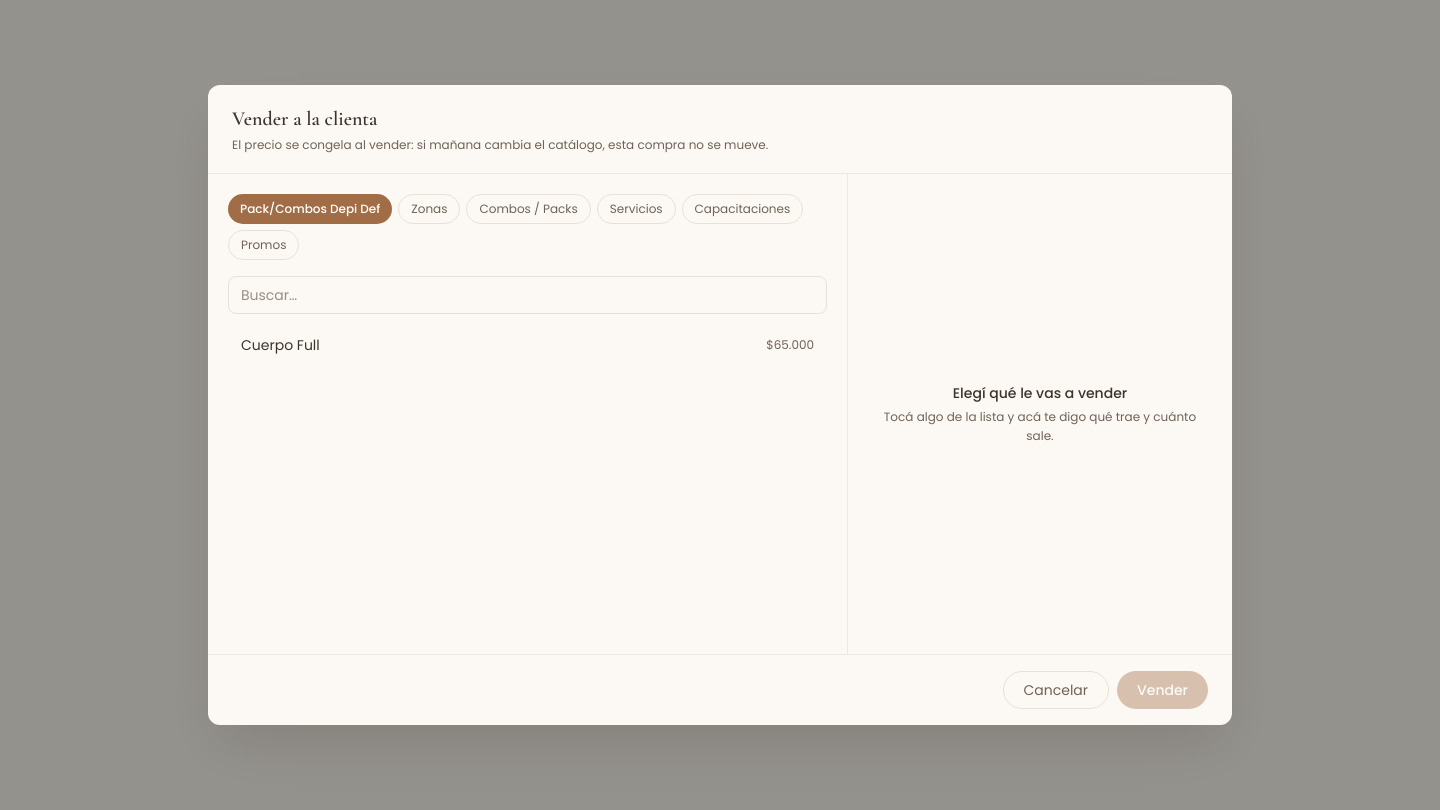
VenderModal — saldo a favor › al usarlo, muestra cuánto queda por cobrar
Click the button "Cuerpo Full $65.000". click: (280, 345)
box: [228,326,827,364]
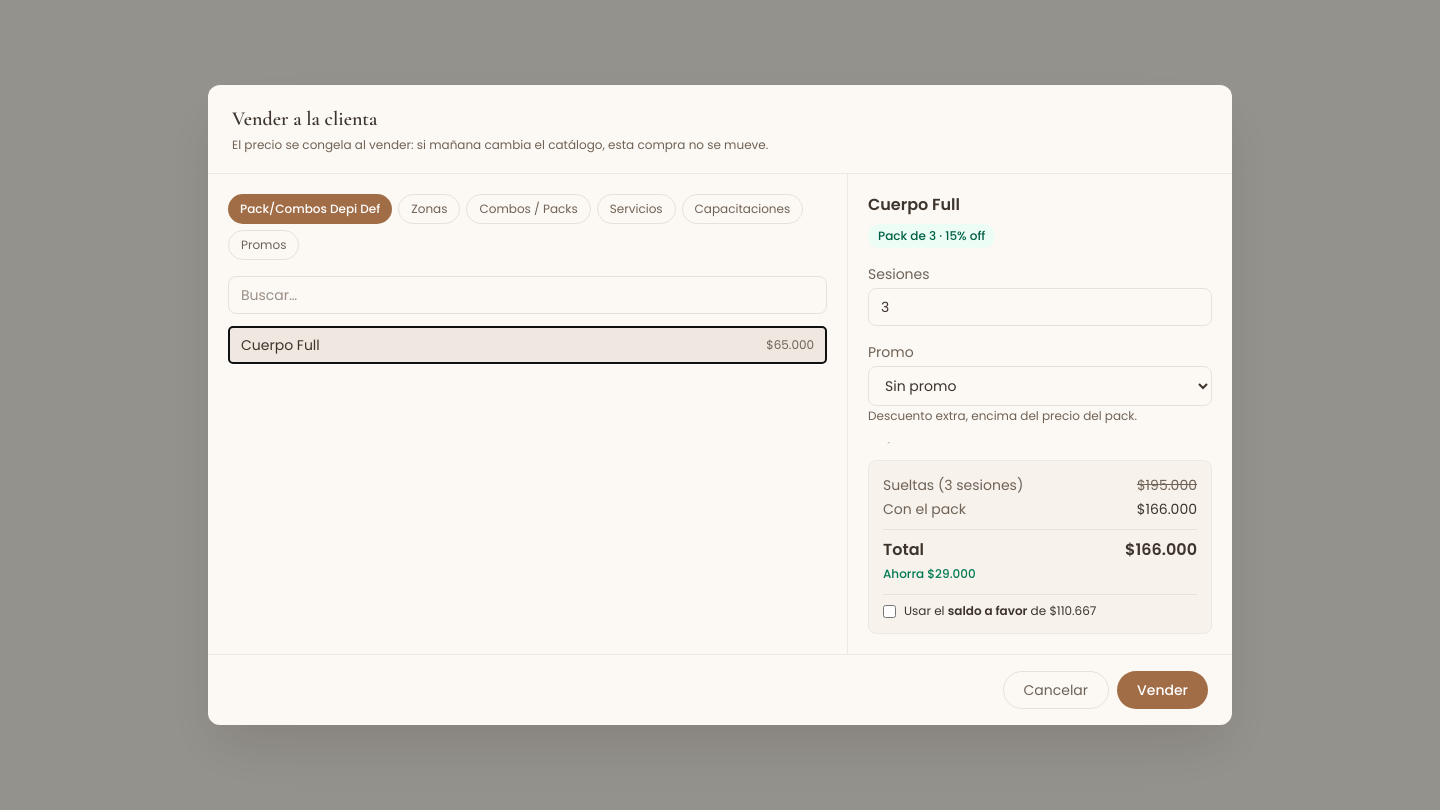
Click the checkbox labelled "Usar el saldo a favor de $110.667". click: (890, 612)
box: [883,605,896,618]
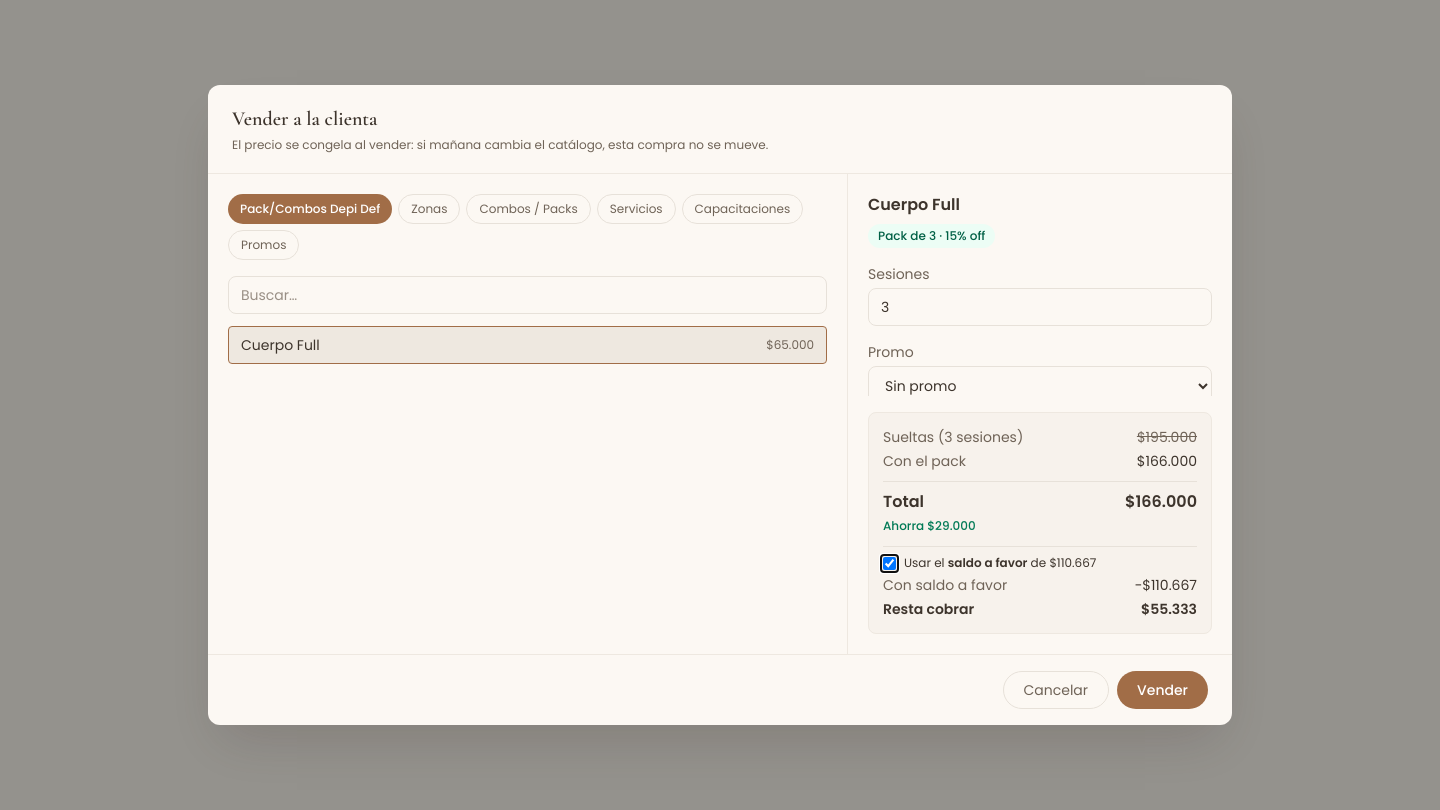
Result: the text "$55.333" is shown at [1141,599,1197,619]
